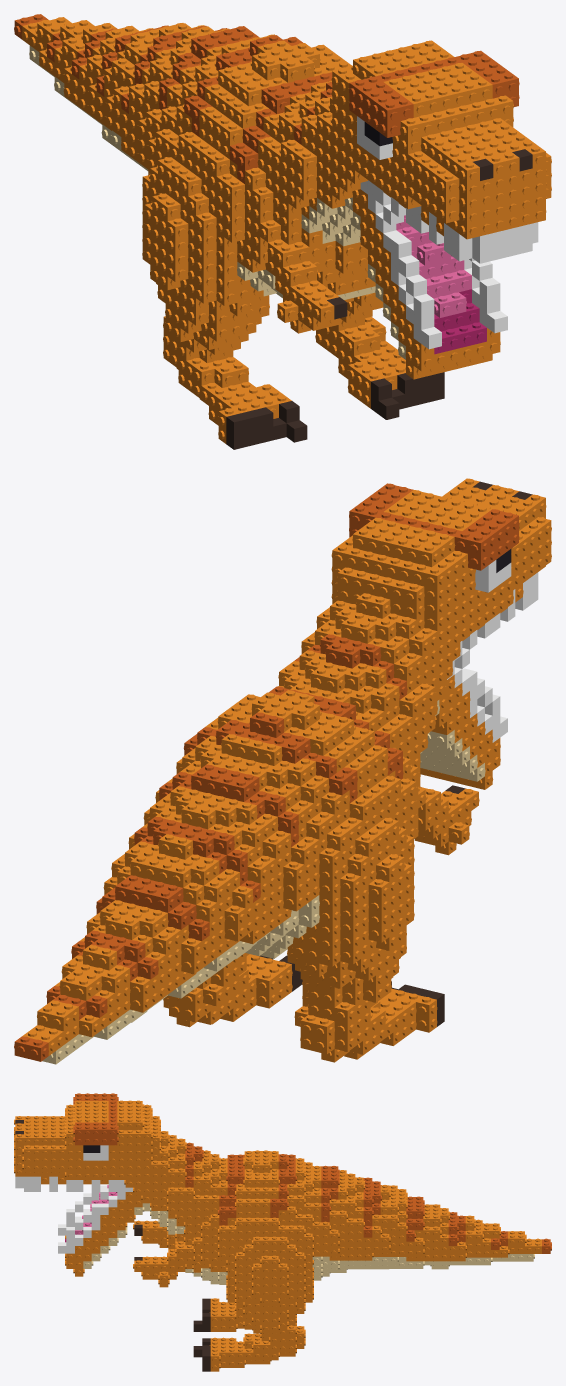
File: TRex.fbx
The picture shows the model from 3 angles, top to bottom: view 1: azimuth 30°, elevation 25°; view 2: azimuth 150°, elevation 25°; view 3: azimuth 270°, elevation 25°; orthographic projection. The views are drawn at different scales.
Parts seen in each view (by area): view 1: Head_F28A1E, LegFL_F28A1E, Body1_F28A1E, Body2_F28A1E, Tail_F28A1E, Jaw_FFFFFF, LegFR_F28A1E, Jaw_F28A1E, Head_D2601A, Tail_D2601A, Head_FFFFFF, LegBL_F28A1E (+10 smaller); view 2: Tail_F28A1E, LegFL_F28A1E, Head_F28A1E, Body2_F28A1E, Body1_F28A1E, Tail_D2601A, LegFR_F28A1E, Body2_D2601A, Head_D2601A, Jaw_F28A1E, LegBL_F28A1E, Tail_F6DBA0 (+5 smaller); view 3: LegFR_F28A1E, Tail_F28A1E, Head_F28A1E, Body1_F28A1E, Body2_F28A1E, Tail_D2601A, Jaw_F28A1E, Jaw_FFFFFF, Tail_F6DBA0, Body2_D2601A, Head_D2601A, LegBR_F28A1E (+9 smaller).
Part boxes in pixels (x1=…): Head_F28A1E: x1=331, y1=40, x2=551, y2=239; LegFL_F28A1E: x1=142, y1=141, x2=291, y2=443; Body1_F28A1E: x1=223, y1=80, x2=375, y2=295; Body2_F28A1E: x1=147, y1=34, x2=351, y2=222; Tail_F28A1E: x1=21, y1=17, x2=229, y2=169; Jaw_FFFFFF: x1=368, y1=195, x2=507, y2=349; LegFR_F28A1E: x1=315, y1=292, x2=405, y2=408; Jaw_F28A1E: x1=352, y1=189, x2=500, y2=379; Head_D2601A: x1=349, y1=50, x2=519, y2=137; Tail_D2601A: x1=14, y1=14, x2=258, y2=113; Head_FFFFFF: x1=357, y1=116, x2=538, y2=263; LegBL_F28A1E: x1=267, y1=239, x2=339, y2=333; Tail_F28A1E: x1=22, y1=766, x2=312, y2=1055; LegFL_F28A1E: x1=287, y1=804, x2=437, y2=1062; Head_F28A1E: x1=331, y1=478, x2=551, y2=658; Body2_F28A1E: x1=155, y1=690, x2=408, y2=899; Body1_F28A1E: x1=278, y1=593, x2=460, y2=838; Tail_D2601A: x1=14, y1=764, x2=299, y2=1061; LegFR_F28A1E: x1=163, y1=953, x2=292, y2=1027; Body2_D2601A: x1=183, y1=686, x2=395, y2=803; Head_D2601A: x1=349, y1=483, x2=519, y2=570; Jaw_F28A1E: x1=420, y1=675, x2=500, y2=789; LegBL_F28A1E: x1=414, y1=786, x2=479, y2=855; Tail_F6DBA0: x1=42, y1=917, x2=291, y2=1064; LegFR_F28A1E: x1=209, y1=1225, x2=313, y2=1371; Tail_F28A1E: x1=312, y1=1170, x2=541, y2=1261; Head_F28A1E: x1=14, y1=1100, x2=160, y2=1184; Body1_F28A1E: x1=124, y1=1131, x2=227, y2=1272; Body2_F28A1E: x1=227, y1=1150, x2=321, y2=1256; Tail_D2601A: x1=321, y1=1165, x2=551, y2=1253; Jaw_F28A1E: x1=65, y1=1192, x2=142, y2=1276; Jaw_FFFFFF: x1=58, y1=1185, x2=125, y2=1253; Tail_F6DBA0: x1=329, y1=1254, x2=534, y2=1272; Body2_D2601A: x1=226, y1=1154, x2=296, y2=1217; Head_D2601A: x1=73, y1=1093, x2=118, y2=1145; LegBR_F28A1E: x1=133, y1=1241, x2=194, y2=1287.
Size of the model in its own units: 18.32 by 30.16 by 63.32.
